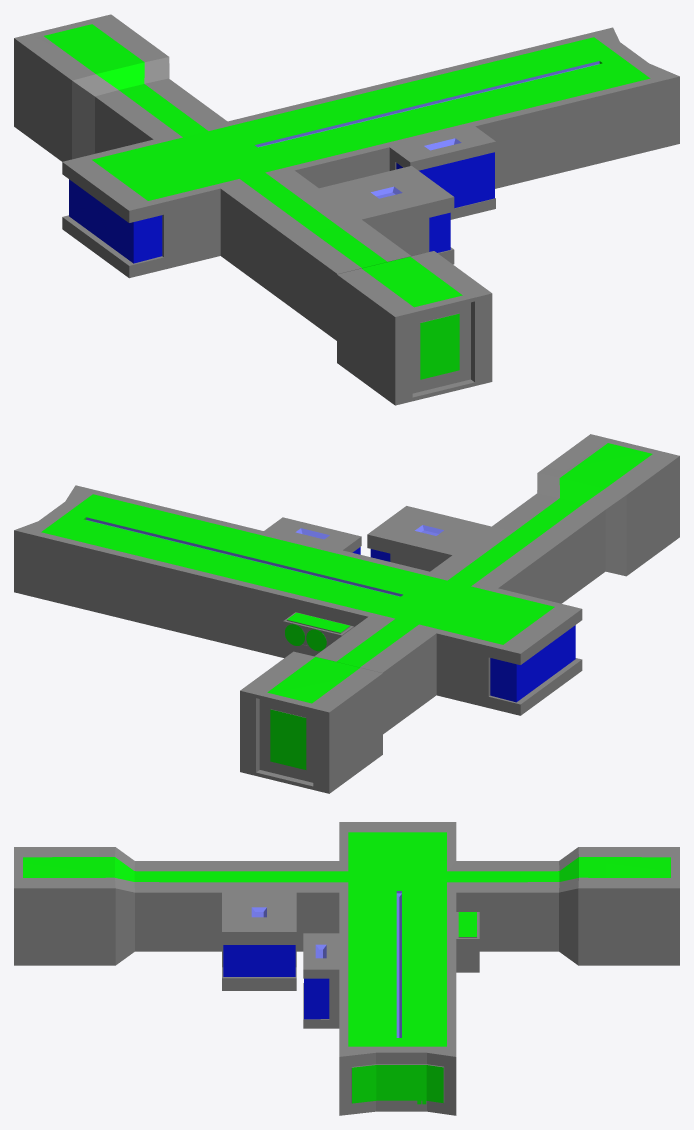
3 renders of one model, top to bottom at view 1: azimuth 30°, elevation 25°; view 2: azimuth 150°, elevation 25°; view 3: azimuth 270°, elevation 25°, orthographic. The views are drawn at different scales.
Parts seen in each view (by area): view 1: FirstLevel_Room_Cube.001; view 2: FirstLevel_Room_Cube.001; view 3: FirstLevel_Room_Cube.001.
Boxes of the visible parts, bbox=[...] form: FirstLevel_Room_Cube.001: bbox=[14, 14, 679, 405]; FirstLevel_Room_Cube.001: bbox=[14, 434, 679, 793]; FirstLevel_Room_Cube.001: bbox=[14, 822, 679, 1115].
Bounding box in the file's own units: 27.36 × 4.23 × 32.79.
